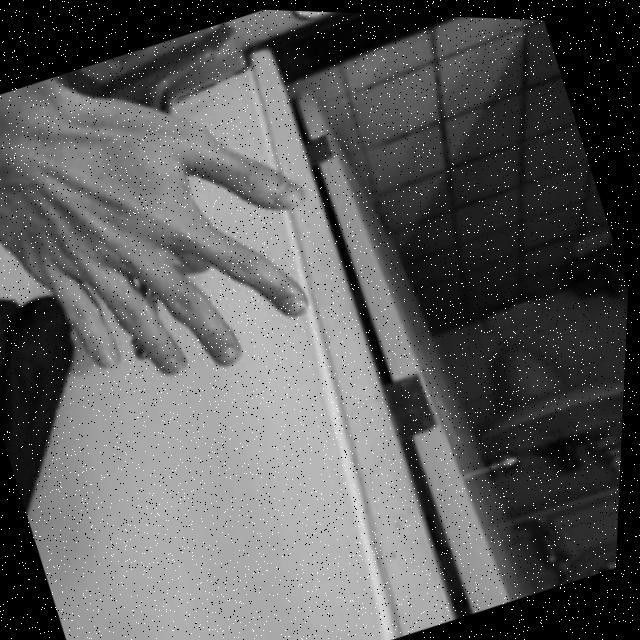hand: (0, 29, 364, 439)
